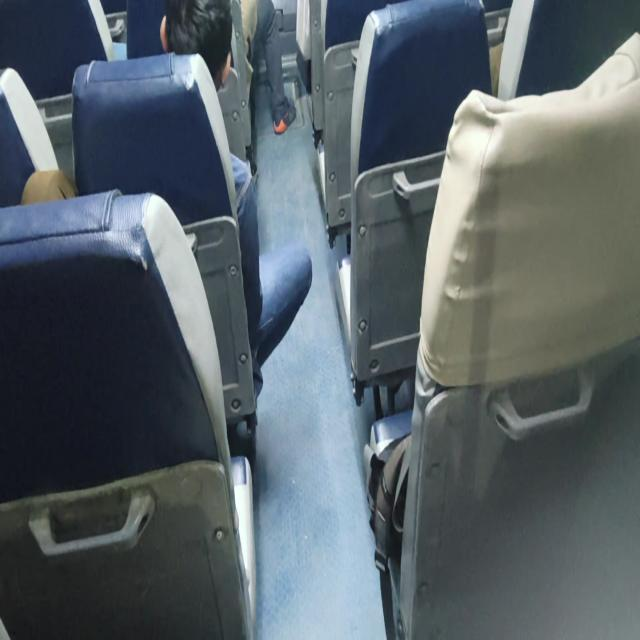person: (158, 1, 312, 402), (239, 0, 297, 135)
